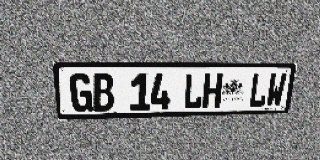1: (130, 73, 150, 111)
4: (151, 73, 171, 110)
B: (92, 73, 114, 112)
G: (69, 73, 93, 112)
H: (202, 73, 223, 109)
L: (183, 73, 204, 109), (248, 73, 270, 107)
W: (265, 73, 287, 107)
